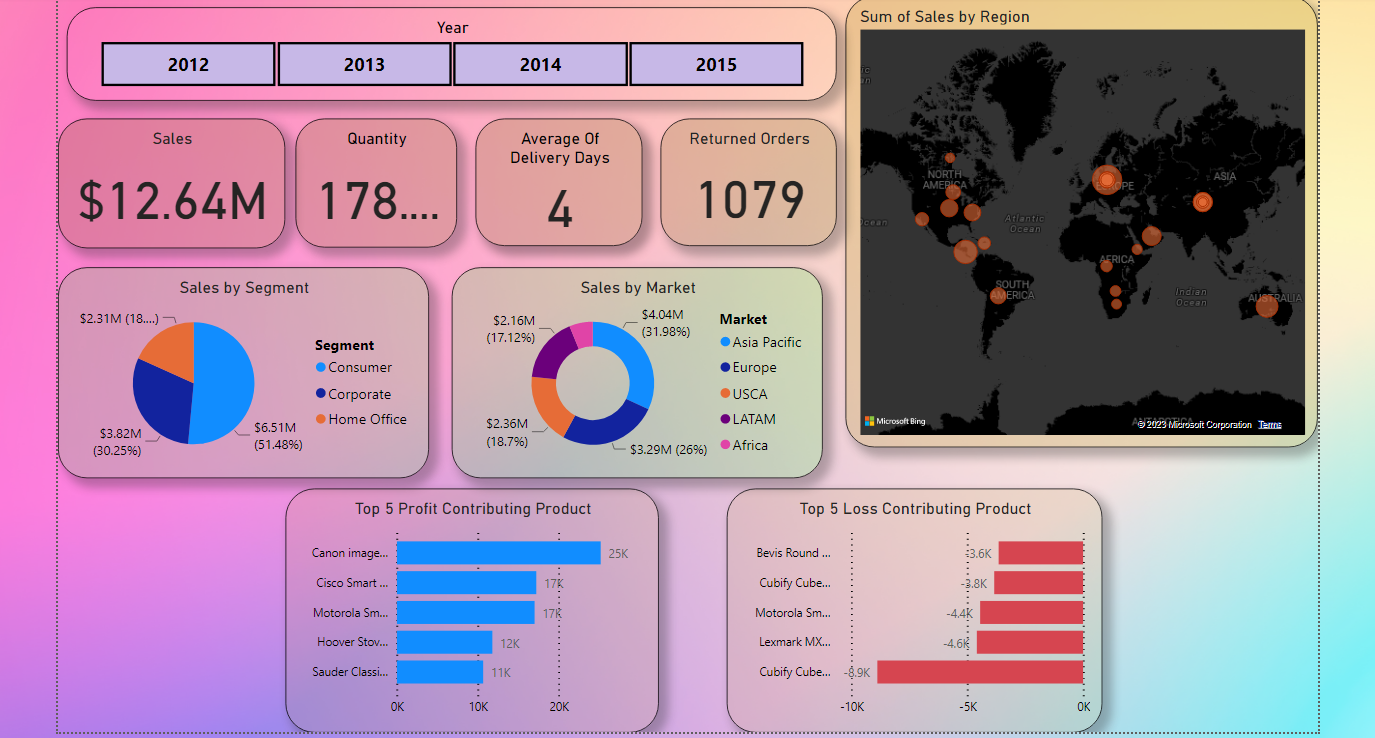

The dashboard page shown, as its layout file describes it:
{"tool":"powerbi","page":{"name":"Page 1","canvas":[1304,762],"ordinal":0},"visuals":[{"type":"card","title":"Sales","fields":{"Values":["Sum(Orders.Sales)"]},"box":[0,126.4,234.9,134.8],"z":0},{"type":"card","title":"Quantity","fields":{"Values":["Sum(Orders.Quantity)"]},"box":[245.7,126.4,166.9,133.6],"z":1000},{"type":"card","title":"Average Of Delivery Days","fields":{"Values":["Avg(Orders.Delivery Date)"]},"box":[431.7,126.4,172.9,132.4],"z":2000},{"type":"slicer","title":"Year","fields":{"Values":["Orders.Year"]},"box":[9.5,11.9,796.6,96.6],"z":3000},{"type":"map","fields":{"Category":["Orders.Region"],"Size":["Sum(Orders.Sales)"]},"box":[815.7,0,488.9,467.5],"z":4000},{"type":"card","title":"Returned Orders","fields":{"Values":["Sum(Returns.Return Orders)"]},"box":[623.7,126.4,182.5,132.4],"z":5000},{"type":"clusteredBarChart","title":"Top 5 Profit Contributing Product","fields":{"Category":["Orders.Product Name"],"Y":["Sum(Orders.Profit)"]},"box":[234.9,509.2,386.4,252.8],"z":6000},{"type":"clusteredBarChart","title":"Top 5 Loss Contributing Product","fields":{"Category":["Orders.Product Name"],"Y":["Sum(Orders.Profit)"]},"box":[691.6,509.2,388.8,252.8],"z":7000},{"type":"pieChart","fields":{"Category":["Orders.Segment"],"Y":["Sum(Orders.Sales)"]},"box":[0,280.2,384,218.2],"z":8000},{"type":"donutChart","fields":{"Category":["Orders.Market"],"Y":["Sum(Orders.Sales)"]},"box":[407.8,280.2,384,218.2],"z":9000}]}

Visuals, with their boxes on the page's 1304x762 design canvas (x1, y1, x2, y2). These are canvas units, not pixel positions in the 1375x738 screenshot, which may show the page scaled, cropped or inside an application window:
"Sales" card: [left=0, top=126, right=235, bottom=261]
"Quantity" card: [left=246, top=126, right=413, bottom=260]
"Average Of Delivery Days" card: [left=432, top=126, right=605, bottom=259]
"Year" slicer: [left=10, top=12, right=806, bottom=108]
map - Orders.Region x Sum(Orders.Sales): [left=816, top=0, right=1305, bottom=468]
"Returned Orders" card: [left=624, top=126, right=806, bottom=259]
"Top 5 Profit Contributing Product" clusteredBarChart: [left=235, top=509, right=621, bottom=762]
"Top 5 Loss Contributing Product" clusteredBarChart: [left=692, top=509, right=1080, bottom=762]
pieChart - Orders.Segment x Sum(Orders.Sales): [left=0, top=280, right=384, bottom=498]
donutChart - Orders.Market x Sum(Orders.Sales): [left=408, top=280, right=792, bottom=498]
